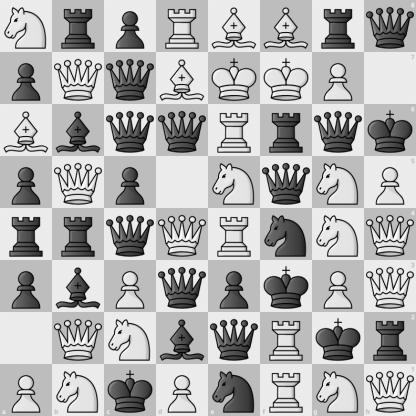B: (1, 105, 52, 156), (157, 53, 208, 104), (209, 1, 260, 52), (261, 1, 312, 52)
K: (209, 53, 260, 104), (261, 53, 312, 104)
N: (52, 364, 104, 416), (312, 364, 364, 416), (1, 1, 52, 52), (105, 313, 156, 364), (209, 157, 260, 208), (313, 157, 364, 208), (313, 209, 364, 260)
P: (156, 364, 209, 416), (364, 156, 416, 209), (0, 364, 52, 416), (105, 261, 156, 312), (313, 53, 364, 104), (313, 261, 364, 312)
Q: (364, 260, 416, 312), (364, 364, 416, 416), (364, 209, 416, 260), (53, 53, 104, 104), (53, 157, 104, 208), (53, 313, 104, 364), (157, 209, 208, 260)
R: (260, 364, 312, 416), (157, 1, 208, 52), (209, 105, 260, 156), (209, 209, 260, 260), (261, 313, 312, 364)
b: (53, 105, 104, 156), (53, 261, 104, 312), (157, 313, 208, 364)
board: (0, 0, 415, 415)
k: (104, 364, 156, 416), (364, 104, 416, 156), (261, 261, 312, 312), (313, 313, 364, 364)
n: (209, 364, 260, 416), (261, 209, 312, 260)
p: (1, 53, 52, 104), (1, 157, 52, 208), (1, 261, 52, 312), (105, 1, 156, 52), (105, 157, 156, 208), (209, 261, 260, 312)
q: (364, 0, 416, 52), (105, 53, 156, 104), (105, 105, 156, 156), (105, 209, 156, 260), (157, 105, 208, 156), (157, 261, 208, 312), (209, 313, 260, 364), (261, 157, 312, 208), (313, 105, 364, 156)
r: (364, 312, 416, 364), (1, 209, 52, 260), (53, 1, 104, 52), (53, 209, 104, 260), (261, 105, 312, 156), (313, 1, 364, 52)
